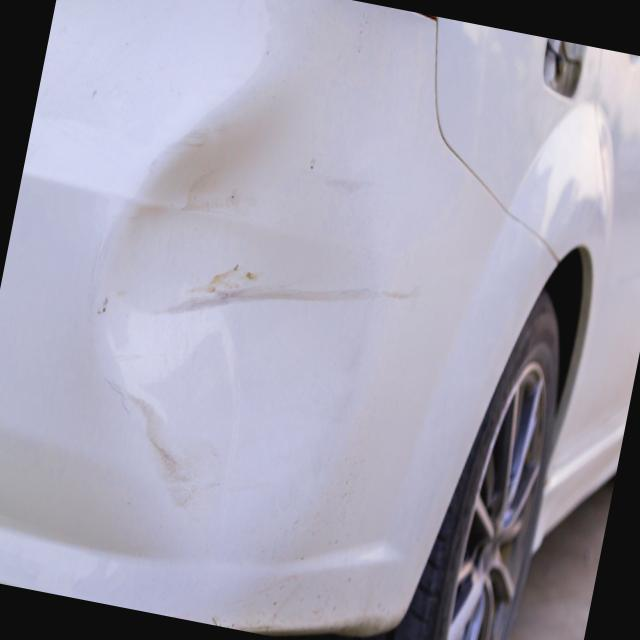Cabossage: (52, 41, 412, 543)
Rayure: (149, 225, 427, 378), (164, 106, 393, 247), (77, 364, 243, 536)
